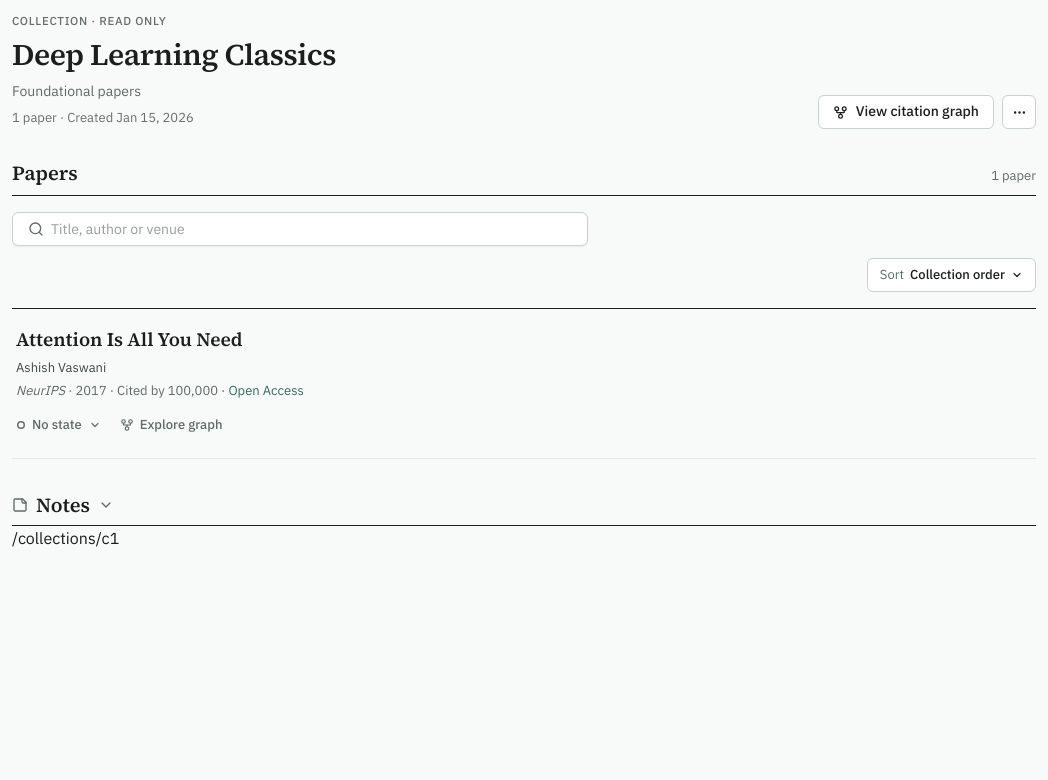
CollectionDetailPage — adding papers › shows readers no add, import or remove controls
The image size is (1048, 780).
Expected: the button "Attention Is All You Need" is shown, [16,327,1032,352]
Their More menu holds only Zotero, never Import DOIs.
Click the button named "More actions": (1019, 112) [1002,95,1036,129]
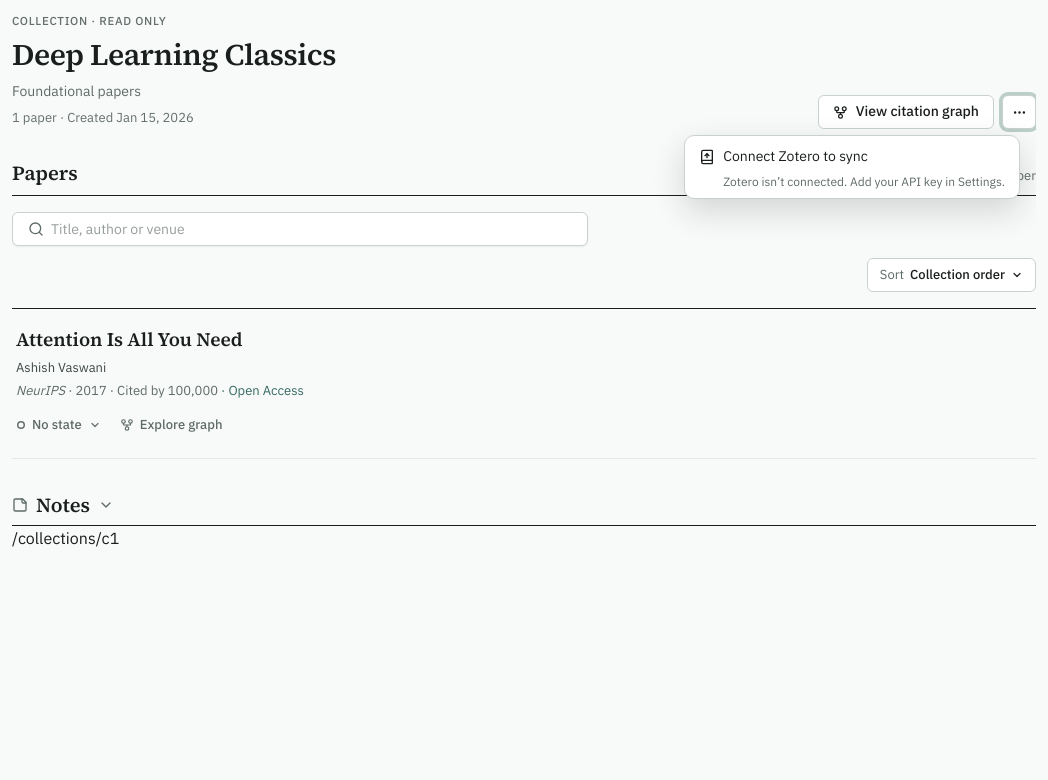
Expected: the menu item "Connect Zotero to sync" is shown, [699,147,868,165]
